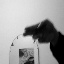h: (22, 17, 57, 46)
